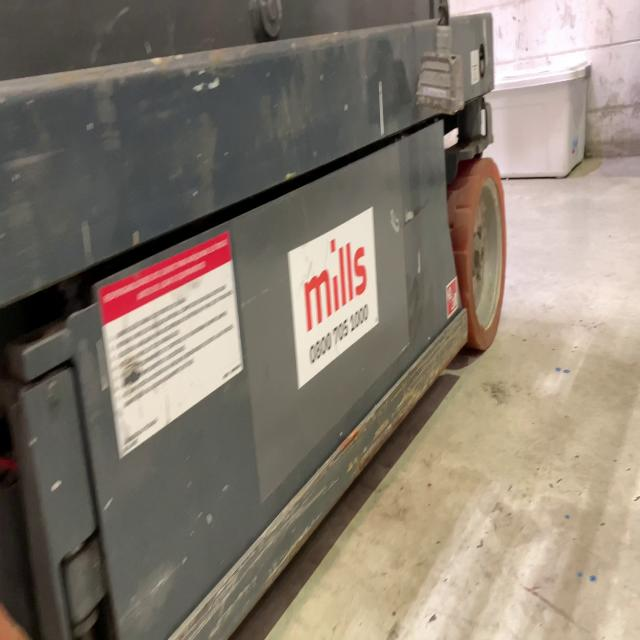Adesivos: (286, 203, 384, 397)
